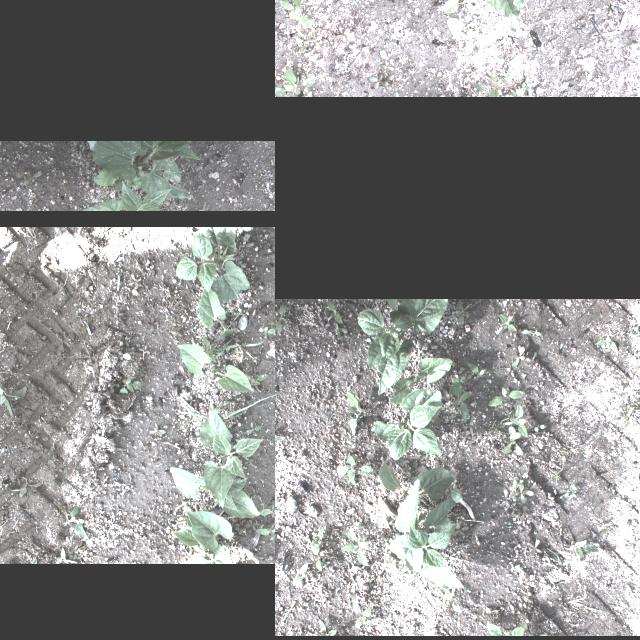crop: (389, 480, 469, 592), (357, 299, 447, 395), (87, 142, 201, 200), (200, 405, 262, 509), (176, 228, 248, 306), (373, 386, 442, 459), (168, 467, 258, 519), (178, 343, 252, 391), (170, 511, 232, 563), (378, 459, 454, 501), (388, 356, 452, 404), (76, 180, 173, 211), (198, 284, 238, 342), (442, 0, 530, 19)
weed: (177, 392, 275, 425), (469, 71, 535, 97), (0, 354, 26, 417), (275, 61, 316, 96), (335, 452, 375, 486), (93, 165, 143, 191), (341, 526, 372, 566), (55, 502, 87, 540), (344, 391, 370, 435), (468, 418, 510, 444), (276, 0, 313, 27), (370, 59, 394, 93), (450, 378, 468, 422), (488, 386, 524, 406), (351, 599, 374, 629), (564, 539, 598, 559), (508, 404, 528, 438), (216, 337, 264, 351), (539, 459, 563, 487), (108, 377, 146, 393), (12, 478, 42, 498), (502, 426, 522, 456), (621, 23, 640, 53), (486, 622, 526, 636), (314, 24, 338, 46), (296, 27, 316, 53), (594, 334, 616, 356), (508, 484, 532, 504), (449, 372, 467, 398), (444, 588, 461, 614), (242, 375, 268, 391), (546, 548, 572, 564), (310, 544, 324, 572), (622, 396, 640, 417), (332, 24, 350, 44), (257, 506, 275, 526), (275, 304, 287, 334), (275, 25, 292, 46), (354, 64, 370, 86), (326, 300, 342, 322), (318, 618, 337, 636), (596, 520, 614, 538), (498, 314, 516, 332), (73, 314, 89, 334), (56, 548, 76, 564), (466, 362, 486, 378), (292, 564, 308, 584), (511, 345, 525, 367), (561, 484, 579, 500), (456, 300, 469, 322), (480, 610, 500, 624), (254, 528, 275, 541), (311, 526, 323, 548), (616, 54, 632, 70), (350, 12, 366, 28), (23, 170, 41, 184), (528, 539, 542, 557), (482, 362, 504, 373), (464, 23, 481, 37), (502, 46, 518, 60), (146, 316, 160, 332), (452, 522, 468, 536), (334, 322, 346, 340), (204, 338, 214, 358), (382, 518, 393, 536), (516, 506, 528, 522), (361, 48, 379, 58), (211, 402, 229, 412), (626, 324, 638, 338), (378, 534, 390, 548), (130, 273, 140, 289), (526, 329, 542, 339), (622, 410, 632, 426), (244, 425, 262, 433), (257, 327, 275, 335), (354, 522, 366, 534), (148, 426, 164, 434), (522, 352, 536, 361), (138, 344, 150, 354), (186, 394, 196, 406), (117, 351, 129, 361), (382, 559, 394, 569), (532, 424, 546, 432), (384, 538, 392, 552), (197, 200, 207, 211), (317, 322, 328, 332), (512, 478, 524, 487), (510, 328, 528, 334), (386, 556, 399, 564), (468, 64, 478, 74), (243, 456, 253, 466), (248, 520, 256, 532), (568, 341, 576, 353), (412, 626, 421, 636), (250, 556, 264, 562), (631, 362, 640, 371), (142, 368, 150, 378), (120, 336, 128, 346), (469, 416, 473, 436), (346, 438, 354, 448), (319, 560, 329, 568), (387, 532, 399, 538), (388, 516, 396, 524), (268, 315, 275, 324), (330, 529, 340, 535), (253, 521, 259, 529), (168, 206, 176, 211), (22, 345, 28, 351), (503, 398, 507, 406), (503, 521, 511, 525), (298, 454, 306, 458), (366, 578, 369, 588), (538, 634, 550, 636)
